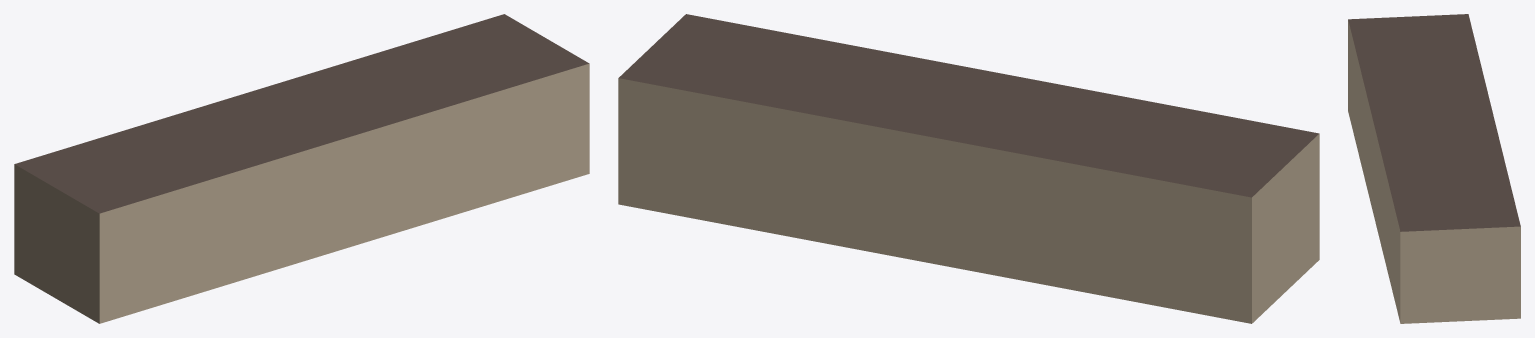
3 views of the same model, side by side, from view 1: azimuth 30°, elevation 25°; view 2: azimuth 150°, elevation 25°; view 3: azimuth 270°, elevation 25° (orthographic). The views are drawn at different scales.
Parts seen in each view (by area): view 1: HP-w299011324; view 2: HP-w299011324; view 3: HP-w299011324.
Boxes of the visible parts, left/top/right/bottom form: HP-w299011324: left=14, top=14, right=589, bottom=323; HP-w299011324: left=618, top=14, right=1319, bottom=323; HP-w299011324: left=1348, top=14, right=1520, bottom=323.
Bounding box in the file's own units: 45.64 × 9 × 15.29.
